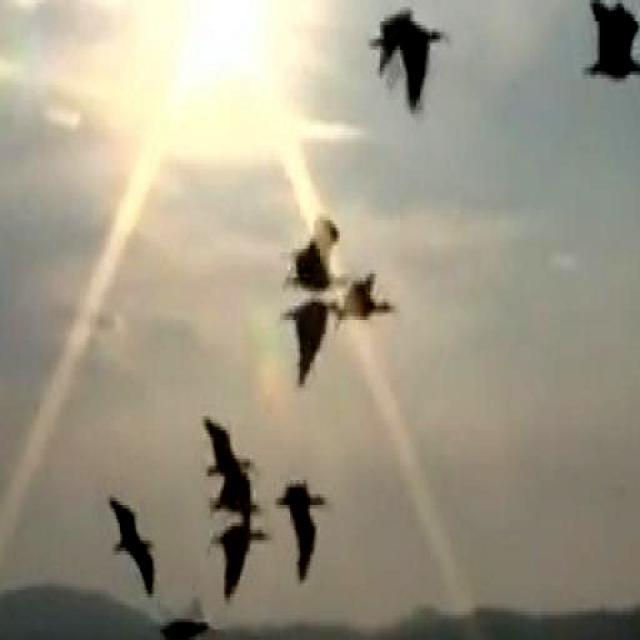airplane: (352, 0, 442, 101), (284, 170, 345, 279), (98, 484, 158, 589), (290, 471, 340, 588), (584, 0, 640, 90), (282, 300, 336, 379), (195, 401, 242, 474)
